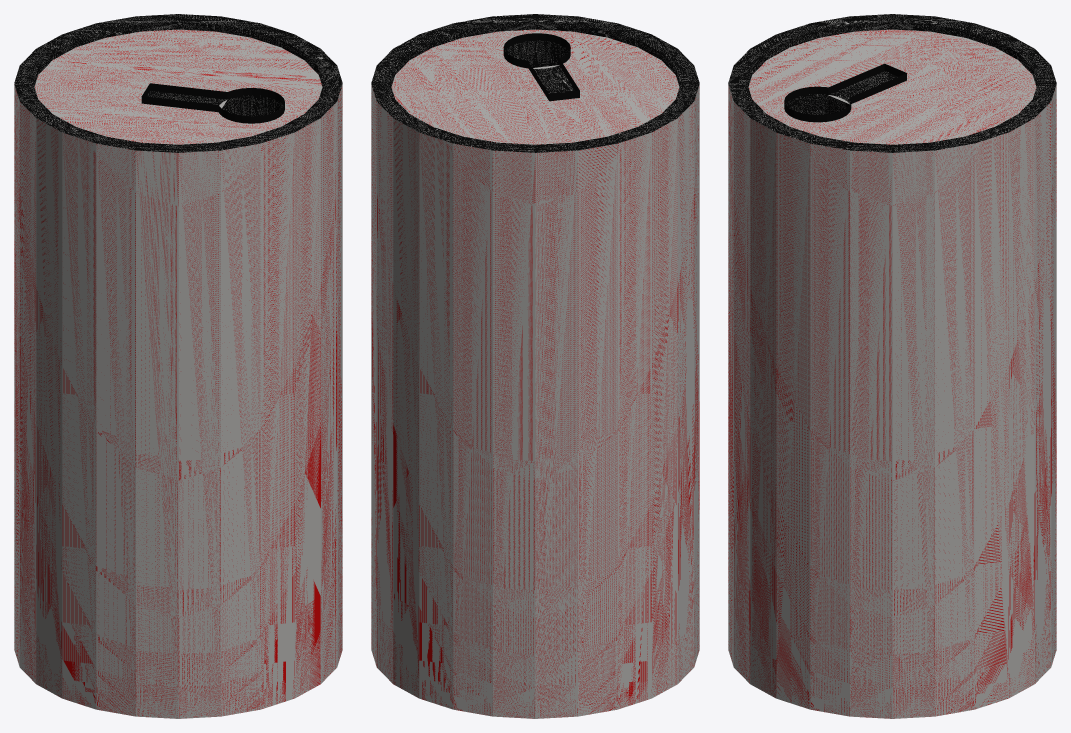
The picture shows the model from 3 angles, left to right: view 1: azimuth 30°, elevation 25°; view 2: azimuth 150°, elevation 25°; view 3: azimuth 270°, elevation 25°; orthographic projection.
Parts seen in each view (by area): view 1: mesh1_mesh1-geometry; view 2: mesh1_mesh1-geometry; view 3: mesh1_mesh1-geometry.
Boxes of the visible parts, <box> form: mesh1_mesh1-geometry: <box>14,14,342,718</box>; mesh1_mesh1-geometry: <box>371,14,699,718</box>; mesh1_mesh1-geometry: <box>728,14,1056,718</box>.
Size of the model in its own units: 0.4221 by 0.8023 by 0.4221.
